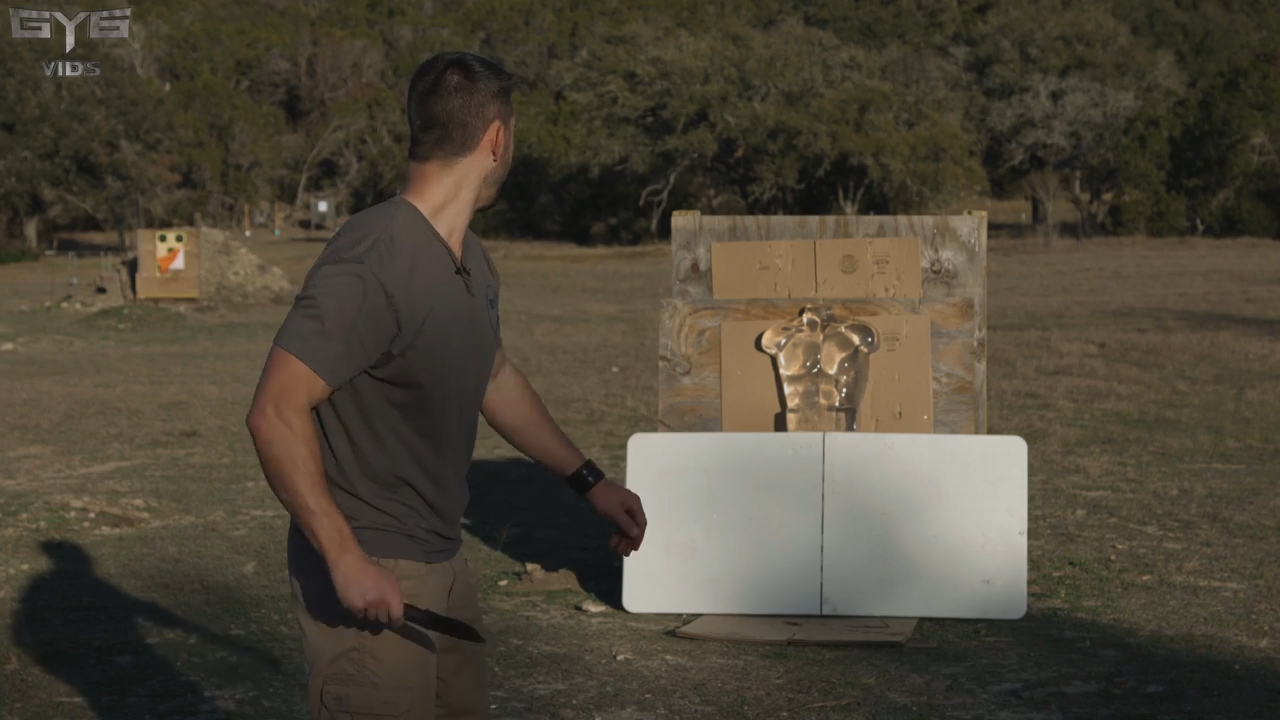knife: (329, 582, 495, 653)
